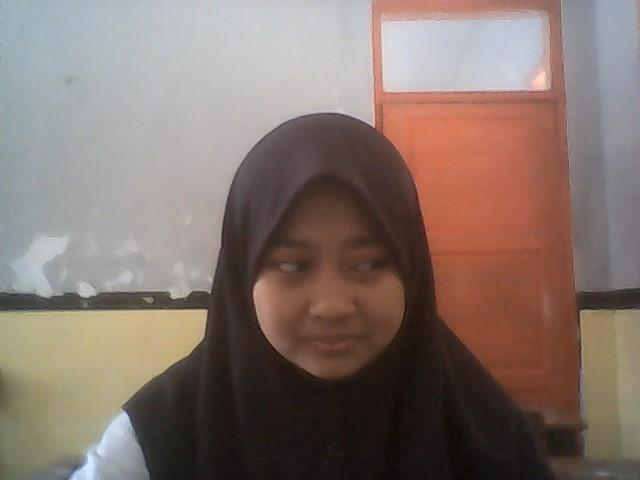cheating: (179, 81, 445, 384)
